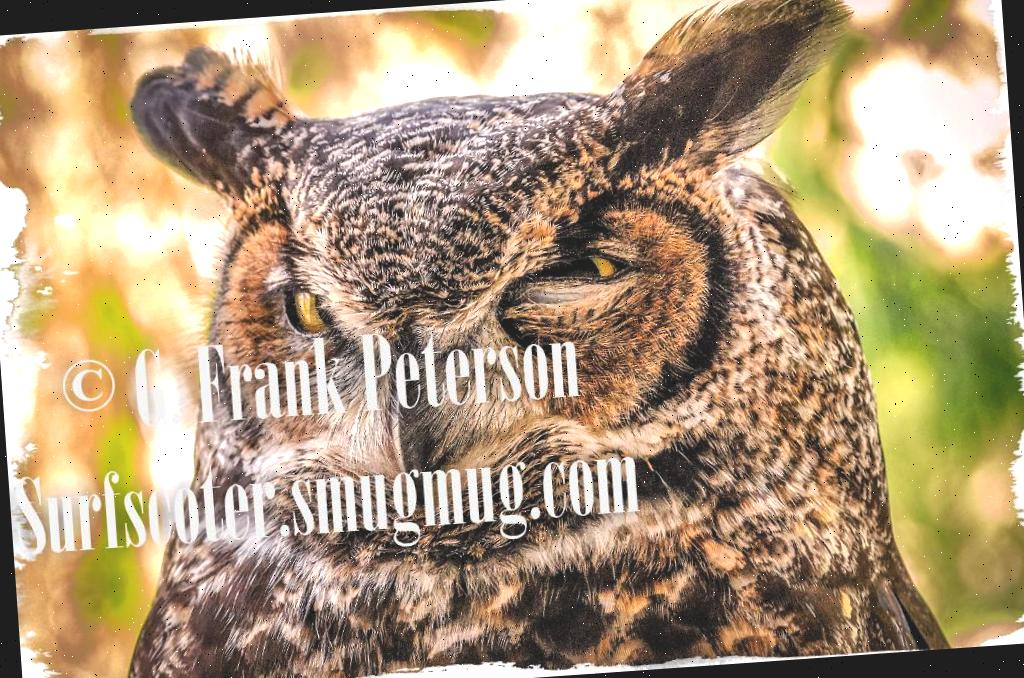Owl: (71, 0, 948, 678)
